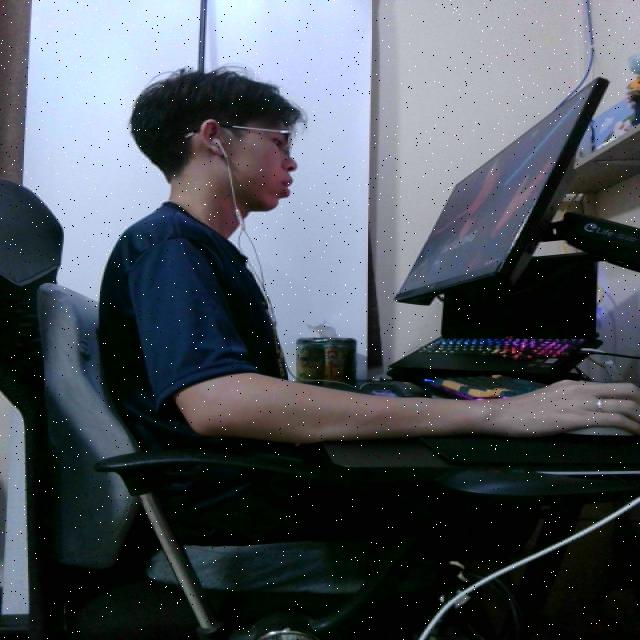Good: (86, 52, 441, 477)
